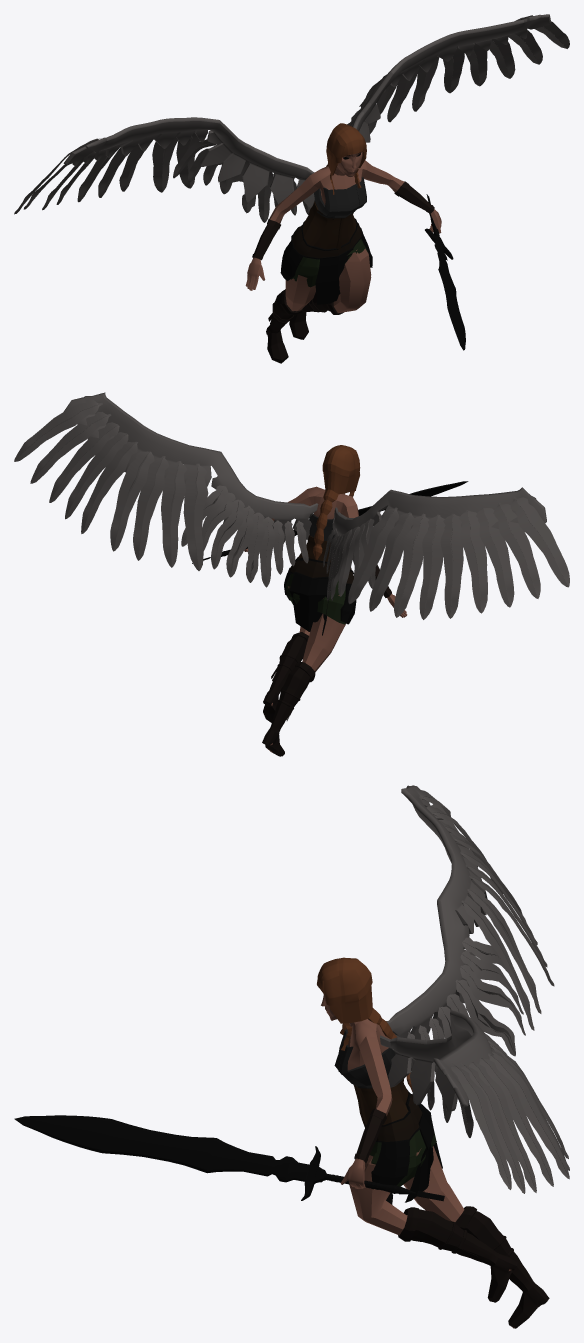
Rendered from Valkyrie.fbx.
The picture shows the model from 3 angles, top to bottom: view 1: azimuth 30°, elevation 25°; view 2: azimuth 150°, elevation 25°; view 3: azimuth 270°, elevation 25°; orthographic projection. The views are drawn at different scales.
Parts seen in each view (by area): view 1: Valkyrie_Wings1; view 2: Valkyrie_Wings1; view 3: Valkyrie_Wings1.
Part boxes in pixels (bbox=[...]): Valkyrie_Wings1: bbox=[14, 14, 569, 363]; Valkyrie_Wings1: bbox=[14, 392, 569, 756]; Valkyrie_Wings1: bbox=[14, 785, 569, 1328].
Bounding box in the file's own units: 3.39 × 1.78 × 2.2.
